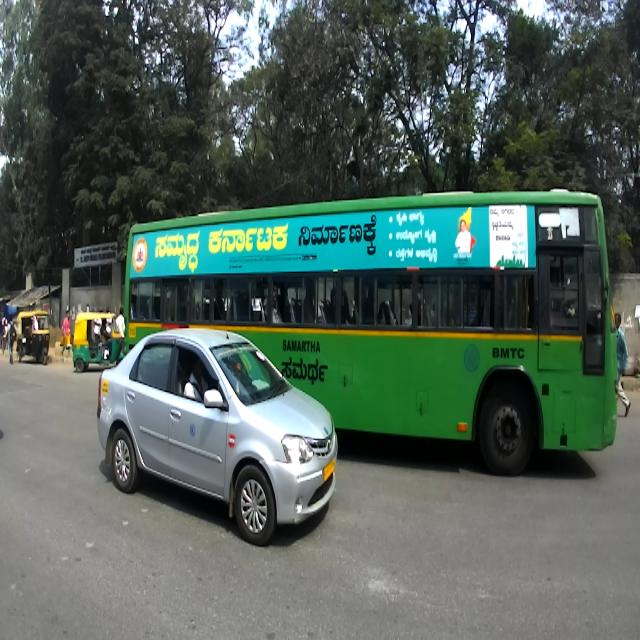bus ahead at: (336, 198, 617, 438)
car ahead at: (98, 328, 349, 555)
